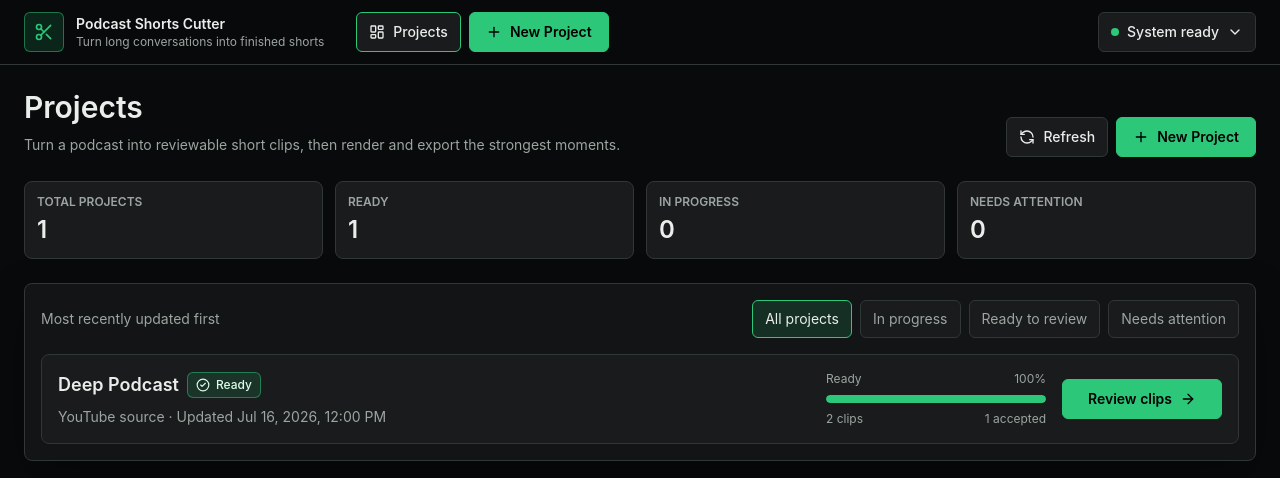
it: Product UI › controls the system status popover with ARIA and Escape
Expected: the element "Technical status" is not shown
Click the button "System ready" at (1177, 32), box [1098,12,1256,52]
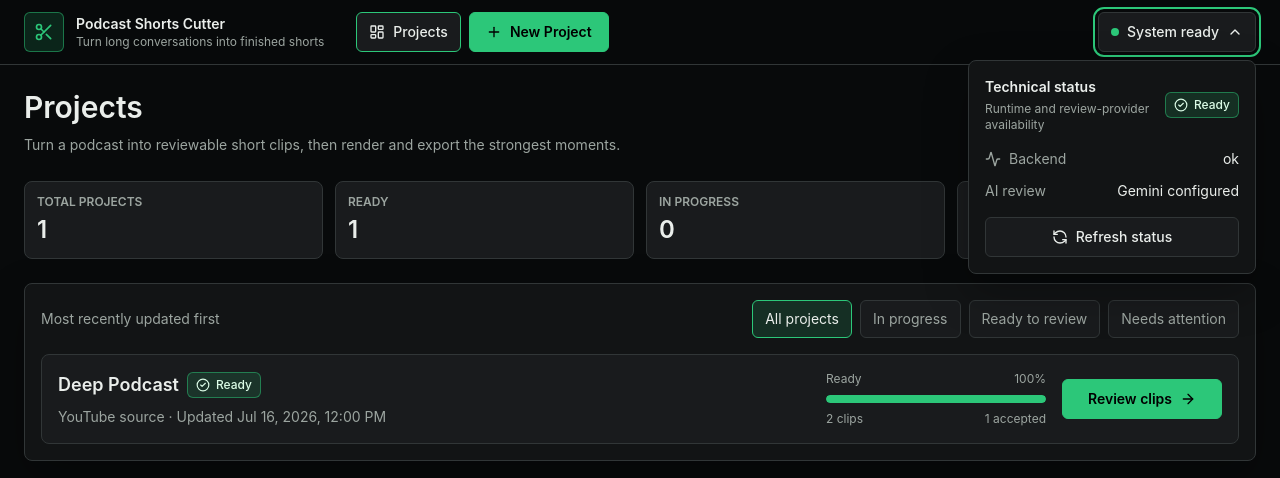
Expected: the button "System ready" is expanded, [1098,12,1256,52]
Expected: the element "Technical status" is shown, [968,60,1256,274]
Press Escape
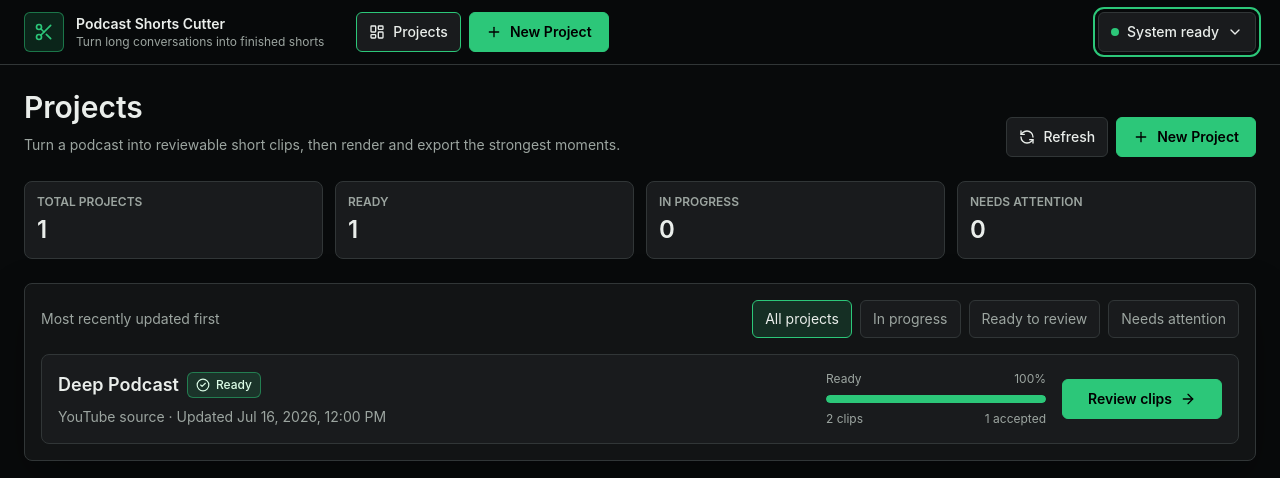
Expected: the button "System ready" is collapsed, [1098,12,1256,52]
Expected: the text "Technical status" is gone
